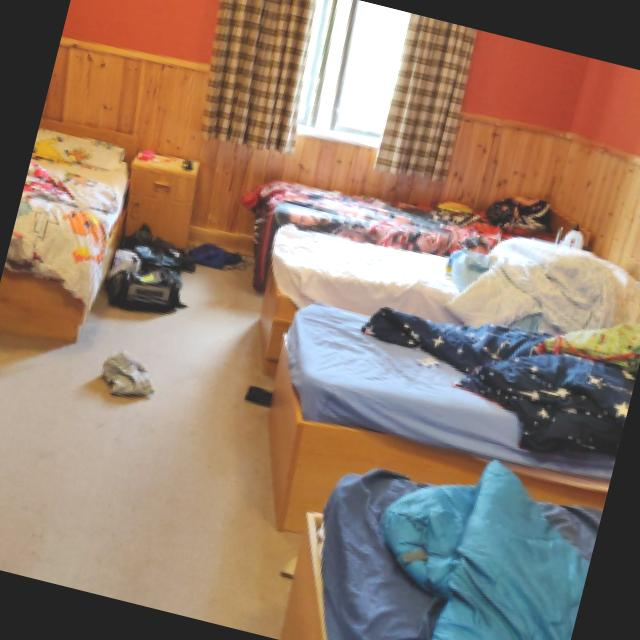mess: (162, 171, 640, 640), (45, 205, 321, 506)
